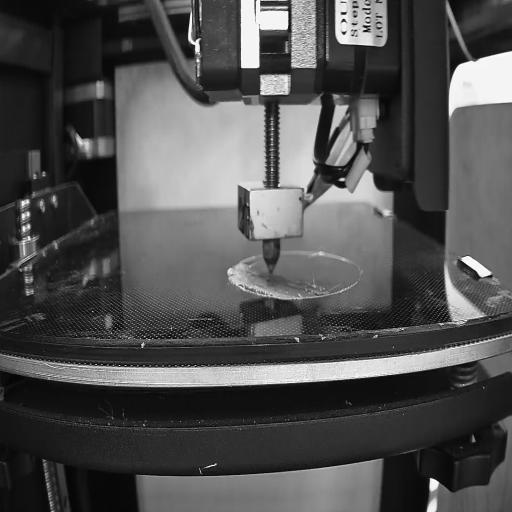under_extrusion: (236, 281, 274, 302), (292, 286, 326, 309)
